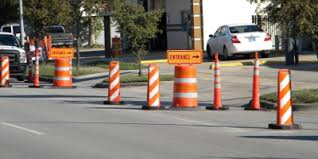barrel: (173, 65, 195, 108), (54, 58, 71, 85)
